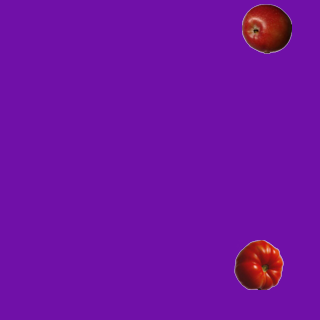Apple Braeburn: (241, 3, 291, 53)
Tomato 3: (233, 239, 283, 289)
